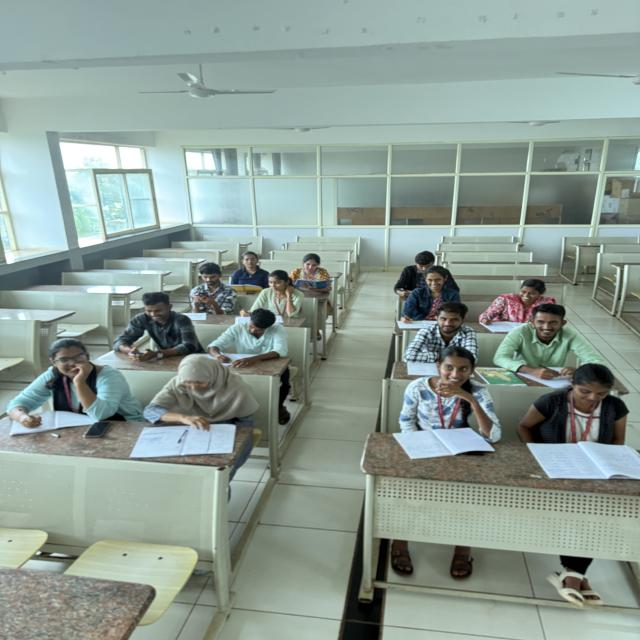Reading: (519, 359, 640, 457), (142, 352, 241, 450), (223, 250, 275, 294), (291, 253, 333, 288)
Using Phone: (115, 289, 194, 365), (181, 260, 239, 317)
Writing: (4, 331, 126, 428), (494, 308, 609, 377), (204, 306, 295, 363), (234, 268, 312, 322), (476, 276, 558, 326), (398, 266, 460, 329), (392, 249, 460, 296)
